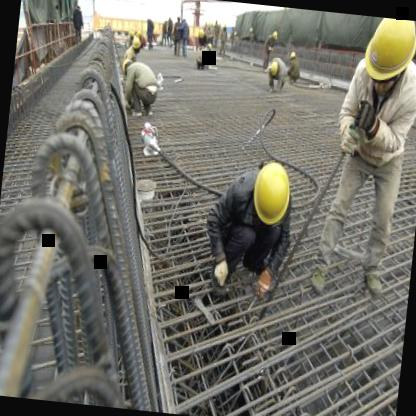helmet: (359, 15, 416, 96), (247, 154, 296, 232), (116, 50, 136, 80), (130, 34, 144, 54), (268, 57, 280, 78), (288, 46, 300, 64), (268, 26, 279, 42), (205, 38, 214, 55), (198, 26, 207, 38)
